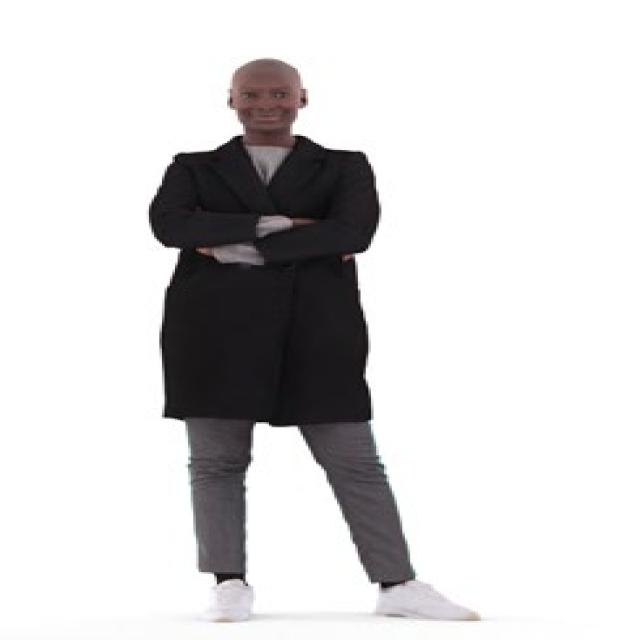standing: (143, 56, 486, 626)
